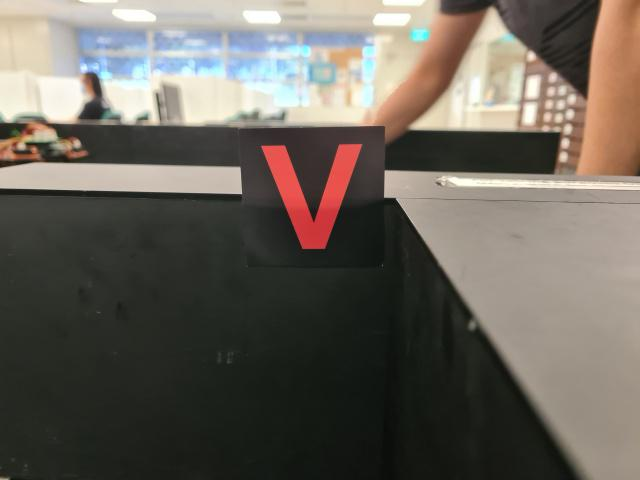alphabet_v: (237, 125, 385, 269)
